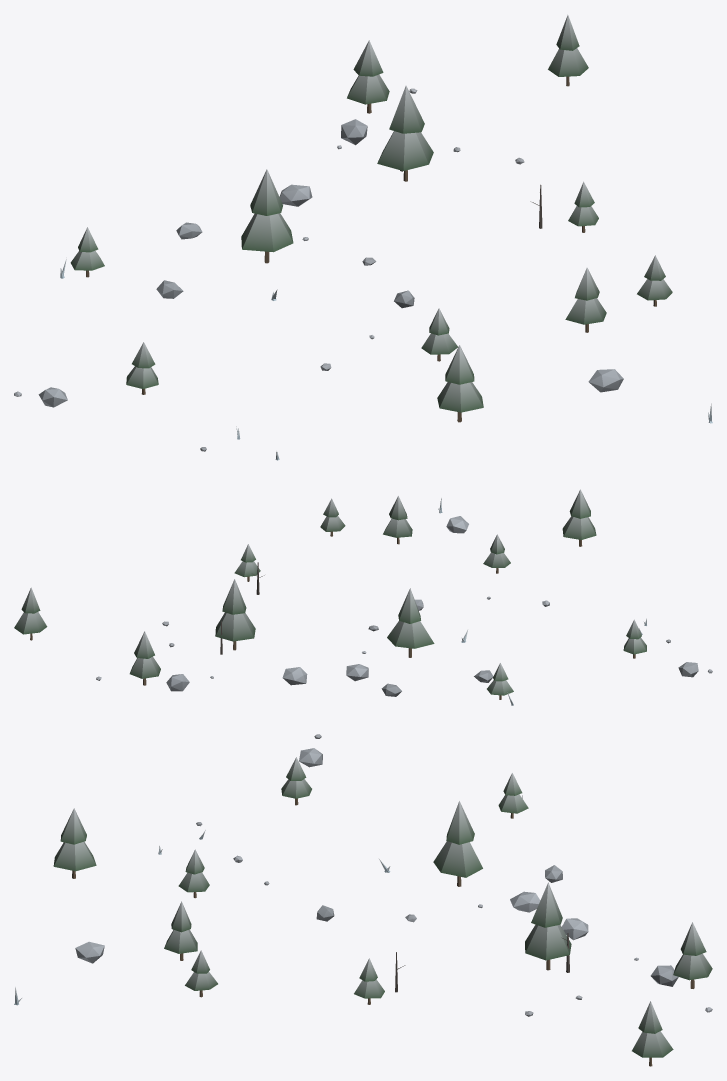
Rendered from frost_land_scatter_c18_13_lod1.glb.
3 views of the same model, one above another, from view 1: azimuth 30°, elevation 25°; view 2: azimuth 150°, elevation 25°; view 3: azimuth 270°, elevation 25° (orthographic). The views are drawn at different scales.
Parts seen in each view (by area): view 1: frost_land_scatter_c18_13_lod1; view 2: frost_land_scatter_c18_13_lod1; view 3: frost_land_scatter_c18_13_lod1.
Boxes of the visible parts, x1,y1,x2,y2 form: frost_land_scatter_c18_13_lod1: (14,15,712,460); frost_land_scatter_c18_13_lod1: (14,489,712,705); frost_land_scatter_c18_13_lod1: (14,734,712,1066).
Size of the model in its own units: 117 by 20.16 by 103.
